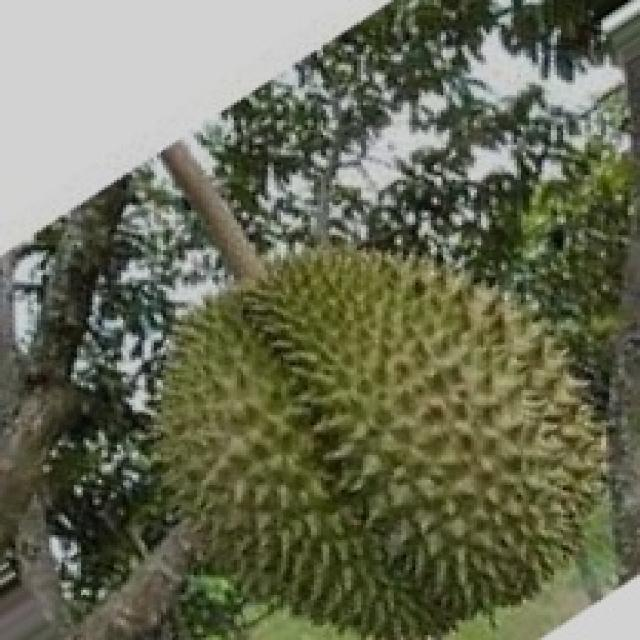fruit: (255, 232, 640, 638)
